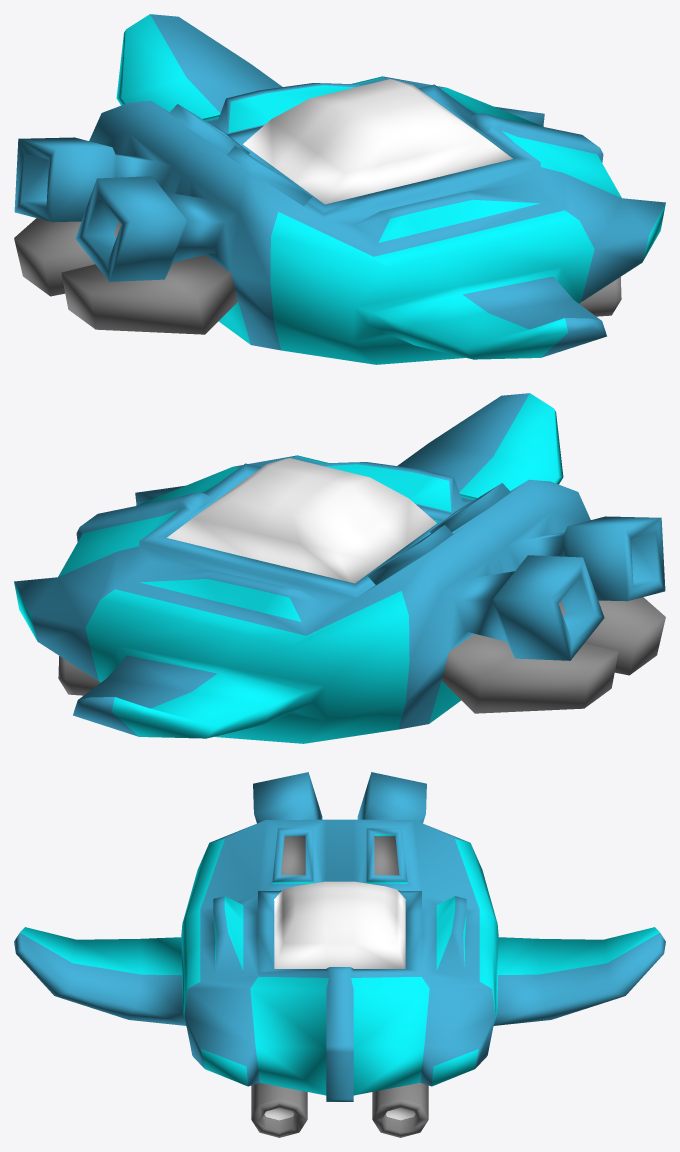
Rendered from player.fbx.
3 views of the same model, one above another, from view 1: azimuth 30°, elevation 25°; view 2: azimuth 150°, elevation 25°; view 3: azimuth 270°, elevation 25° (orthographic). The views are drawn at different scales.
Parts seen in each view (by area): view 1: Cube; view 2: Cube; view 3: Cube.
Part boxes in pixels (box(x1,y1,x2,y2)): Cube: box(14, 14, 665, 364); Cube: box(14, 393, 665, 743); Cube: box(14, 772, 665, 1137).
Bounding box in the file's own units: 533 × 221 × 705.
